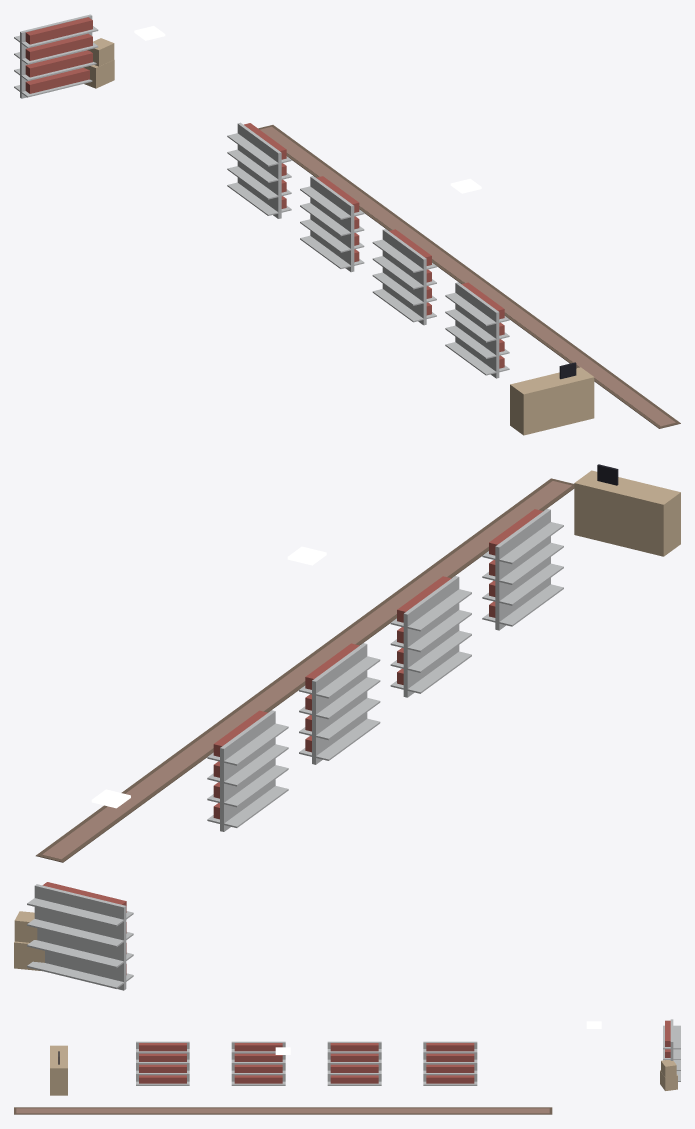
The model's file is fine-s0.glb.
3 views of the same model, one above another, from view 1: azimuth 30°, elevation 25°; view 2: azimuth 150°, elevation 25°; view 3: azimuth 270°, elevation 25° (orthographic). The views are drawn at different scales.
Parts seen in each view (by area): view 1: soft-s0, shelving.000, shop-counter.000, shelf.001, shelf.000, shelf.003, shelf.002, cardboard-box.000; view 2: soft-s0, shelving.000, shop-counter.000, shelf.002, shelf.000, shelf.001, shelf.003, cardboard-box.000; view 3: soft-s0, shelf.000, shelf.001, shelf.003, shelf.002, shop-counter.000, shelving.000, cardboard-box.000.
Part boxes in pixels (box(x1,y1,x2,y2)): soft-s0: box(258, 125, 680, 428); shelving.000: box(14, 14, 98, 98); shop-counter.000: box(510, 362, 594, 435); shelf.001: box(300, 176, 364, 272); shelf.000: box(227, 122, 291, 218); shelf.003: box(445, 282, 509, 378); shelf.002: box(372, 229, 436, 325); cardboard-box.000: box(83, 38, 114, 88); soft-s0: box(36, 478, 574, 862); shelving.000: box(27, 882, 133, 990); shop-counter.000: box(574, 464, 680, 556); shelf.002: box(390, 576, 471, 697); shelf.000: box(207, 710, 288, 831); shelf.001: box(299, 643, 380, 764); shelf.003: box(482, 509, 563, 630); cardboard-box.000: box(14, 911, 44, 971); soft-s0: box(14, 1107, 552, 1114); shelf.000: box(423, 1041, 477, 1085); shelf.001: box(327, 1041, 381, 1085); shelf.003: box(136, 1041, 189, 1085); shelf.002: box(231, 1041, 285, 1085); shop-counter.000: box(50, 1045, 67, 1095); shelving.000: box(663, 1019, 680, 1081); cardboard-box.000: box(660, 1060, 677, 1090).
Size of the model in its own units: 4.11 by 2.24 by 22.27.
